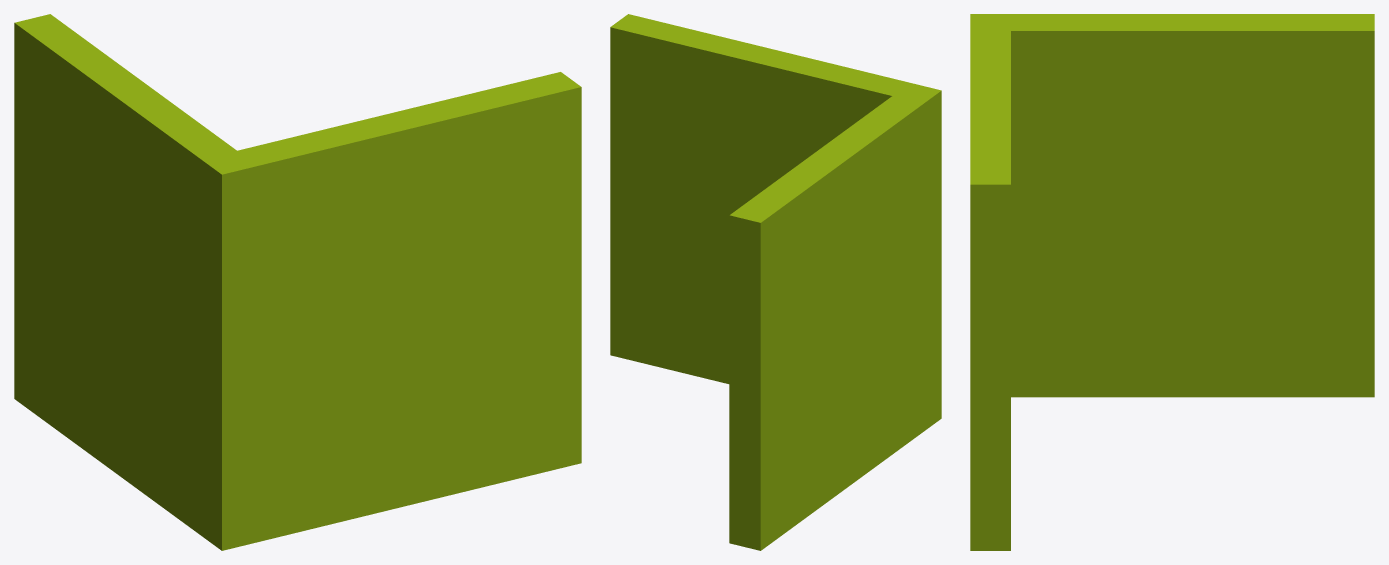
The model's file is corner.obj.
3 renders of one model, left to right at view 1: azimuth 30°, elevation 25°; view 2: azimuth 150°, elevation 25°; view 3: azimuth 270°, elevation 25°, orthographic. The views are drawn at different scales.
Parts seen in each view (by area): view 1: Cube; view 2: Cube; view 3: Cube.
Part boxes in pixels (box(x1,y1,x2,y2)): Cube: box(14, 14, 581, 550); Cube: box(610, 14, 941, 550); Cube: box(970, 14, 1374, 550).
Bounding box in the file's own units: 1 × 1 × 1.
